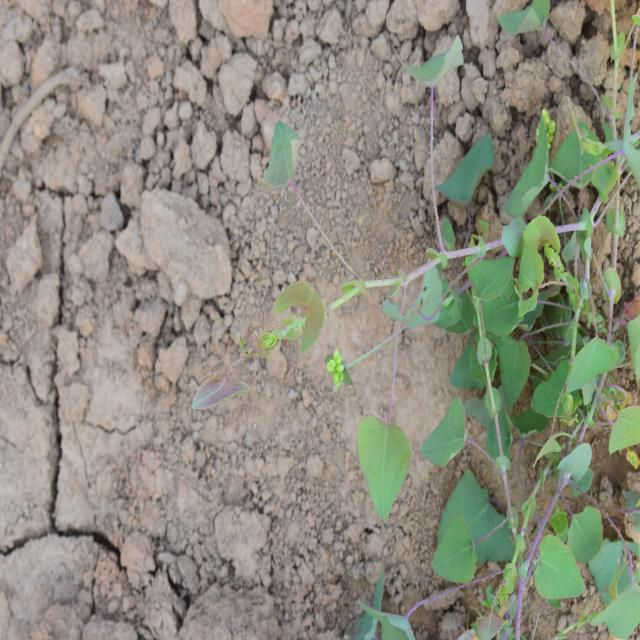Asiatic_Smartweed: (230, 107, 449, 494), (436, 354, 606, 622)
